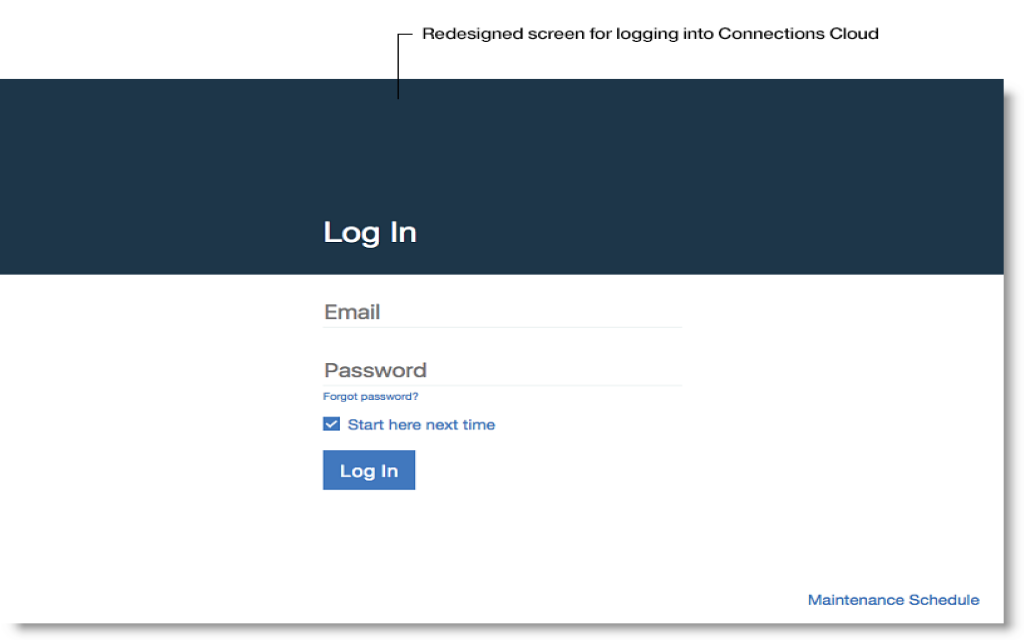button: (324, 450, 416, 490)
checkbox: (322, 416, 341, 432)
label_Login: (317, 213, 420, 251)
label_email: (323, 298, 381, 325)
label_password: (325, 359, 431, 380)
textbox: (320, 353, 684, 383), (321, 296, 682, 326)
url: (807, 592, 982, 611), (321, 388, 419, 404)
